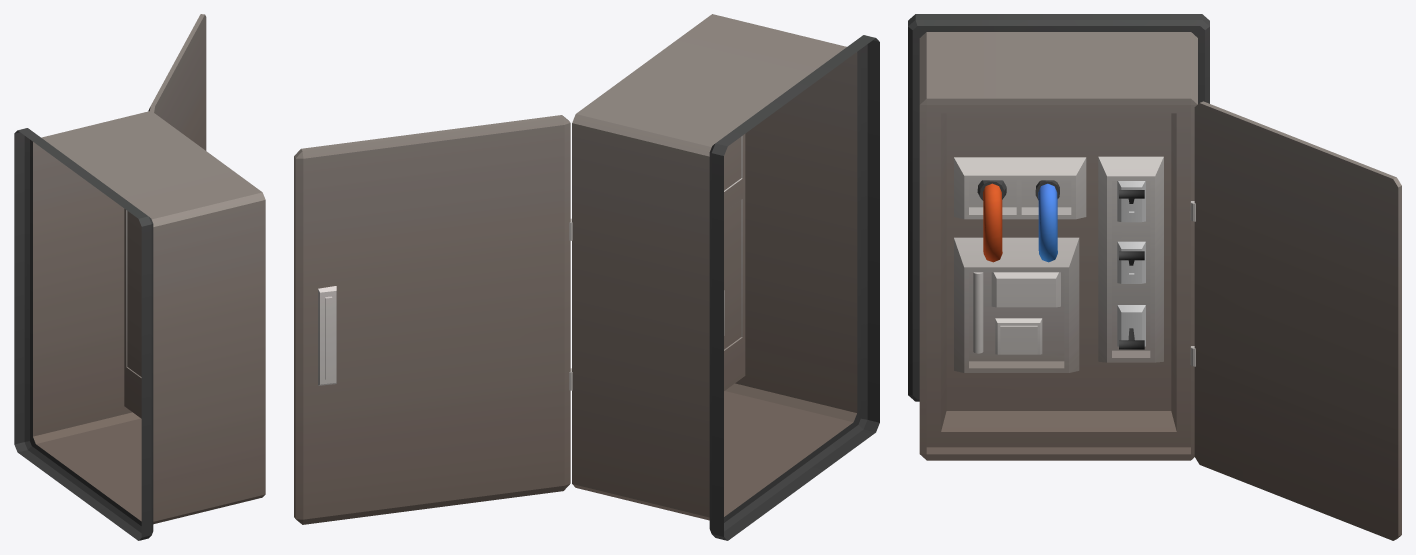
Rendered from SM_Exterior_CajaFusibles.fbx.
The picture shows the model from 3 angles, left to right: view 1: azimuth 30°, elevation 25°; view 2: azimuth 150°, elevation 25°; view 3: azimuth 270°, elevation 25°; orthographic projection. The views are drawn at different scales.
Visible parts, largest first — view 1: SM_Exterior_CajaFusibles; view 2: SM_Exterior_CajaFusibles; view 3: SM_Exterior_CajaFusibles.
Boxes of the visible parts, x1,y1,x2,y2 form: SM_Exterior_CajaFusibles: (14, 14, 265, 540); SM_Exterior_CajaFusibles: (294, 14, 879, 540); SM_Exterior_CajaFusibles: (908, 14, 1401, 540).
Size of the model in its own units: 187 by 212 by 249.
